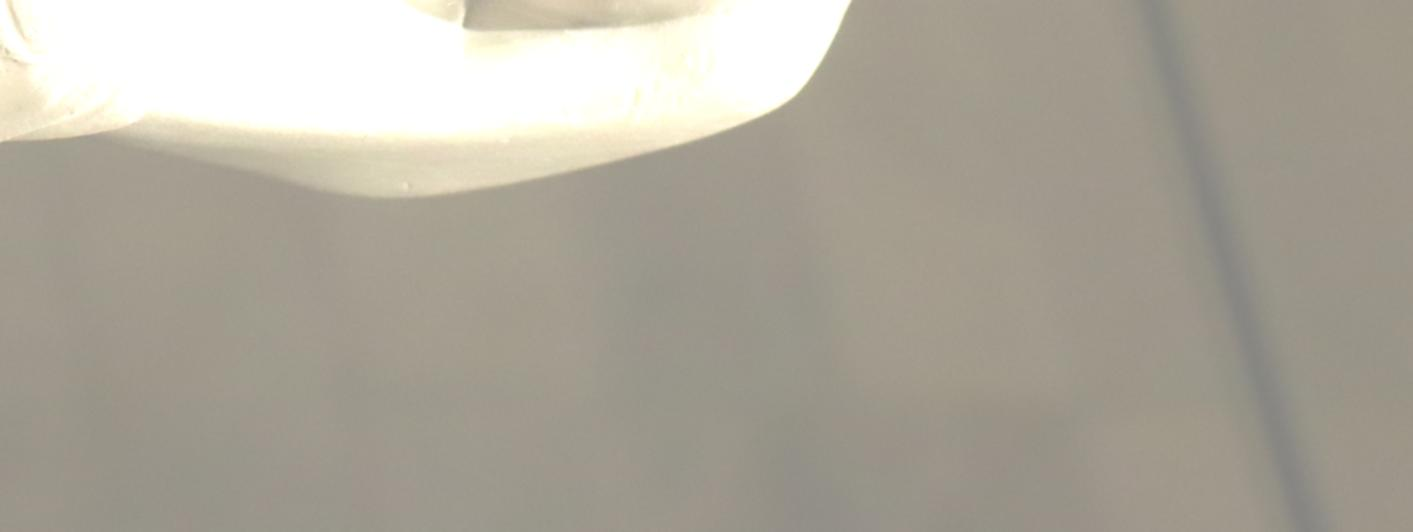the_female_peasent: (0, 0, 576, 265)
